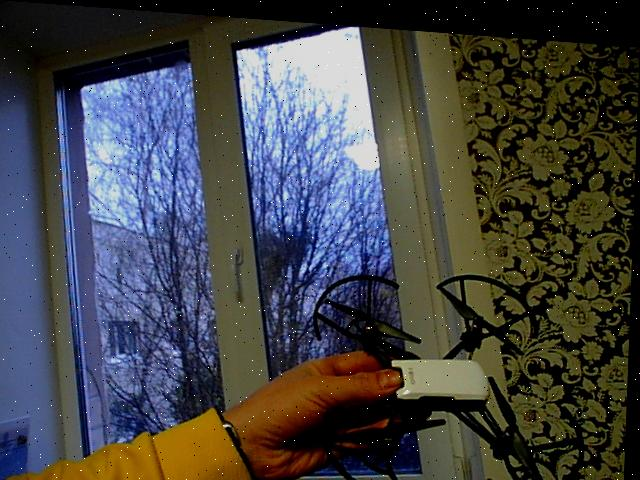drone: (307, 241, 595, 480)
